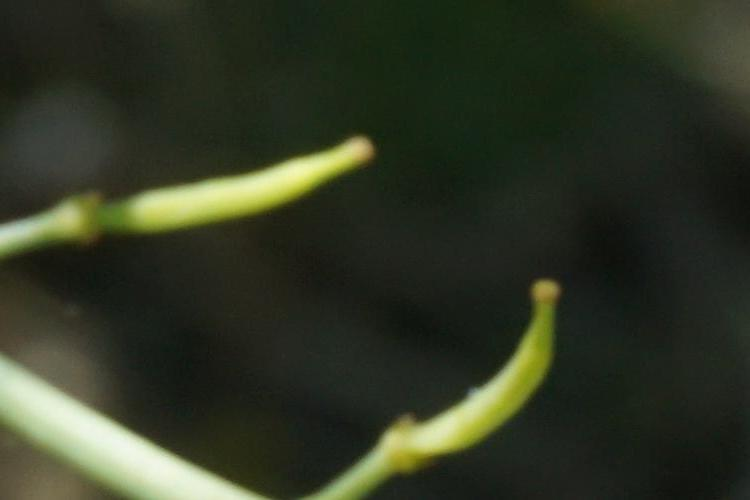pod: (377, 256, 608, 473), (56, 120, 404, 251)
